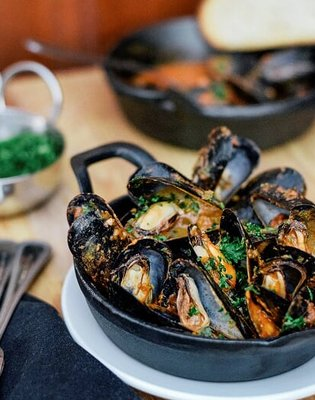sushi: (113, 48, 315, 150), (195, 0, 315, 53)
